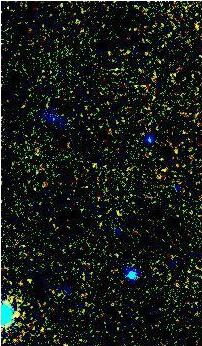star: (0, 301, 30, 331)
